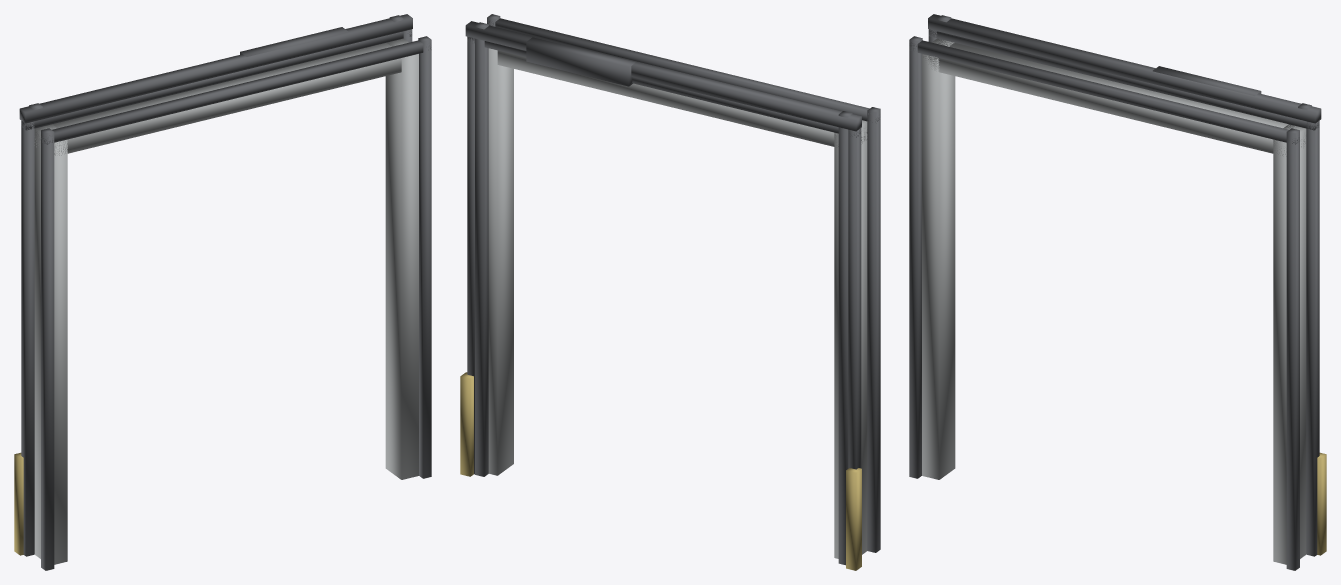
Rendered from bay_opening_loading_bay_w360_h420_d30.glb.
The picture shows the model from 3 angles, left to right: view 1: azimuth 30°, elevation 25°; view 2: azimuth 150°, elevation 25°; view 3: azimuth 330°, elevation 25°; orthographic projection.
Visible parts, largest first — view 1: world; view 2: world; view 3: world.
Part boxes in pixels (bbox=[...]): world: bbox=[14, 14, 431, 570]; world: bbox=[460, 14, 880, 570]; world: bbox=[909, 14, 1326, 570].
Bounding box in the file's own units: 4.23 × 4.59 × 0.522.
